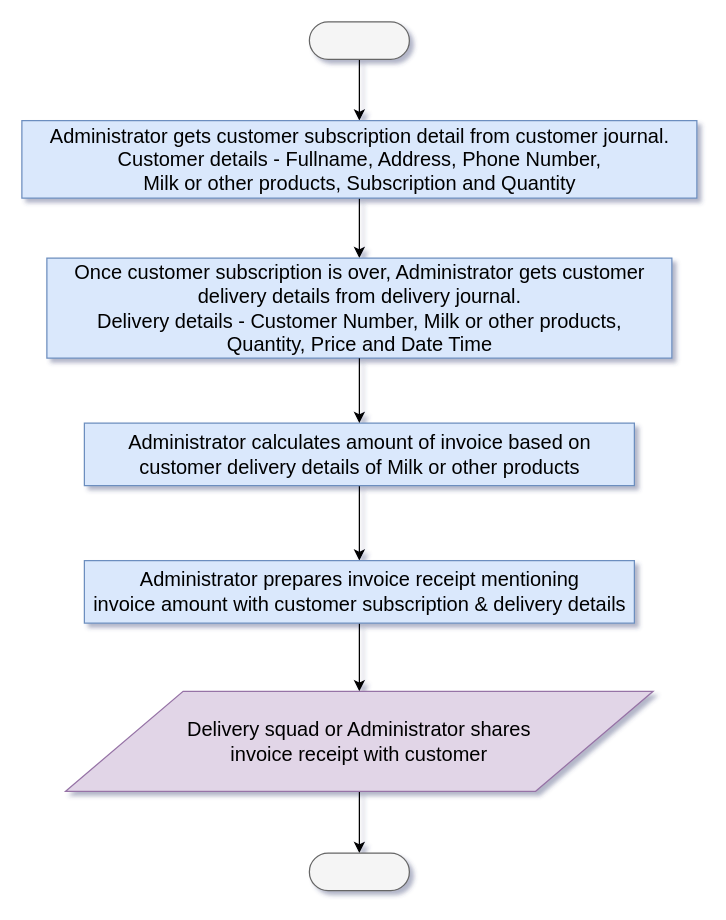
This 726x920 diagram has some shape labels left out. The shapes that lost their labels are listed below. From the top down, each one's centre as x and y in pixels, then its label:
At (358,40): "Start".
At (358,871): "Finish".
